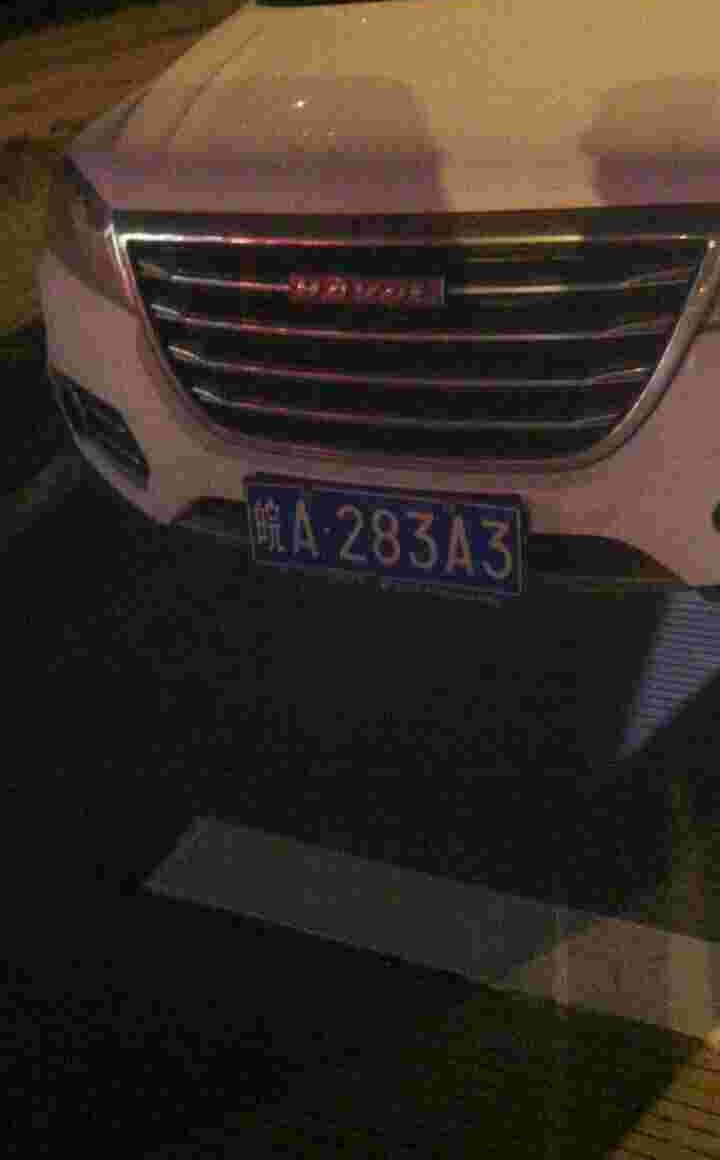license_plate: (233, 480, 518, 589)
